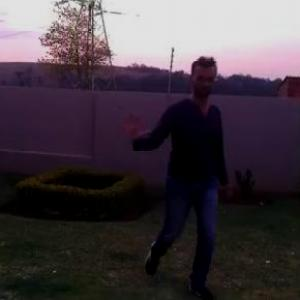follow_hand: (118, 109, 153, 142)
